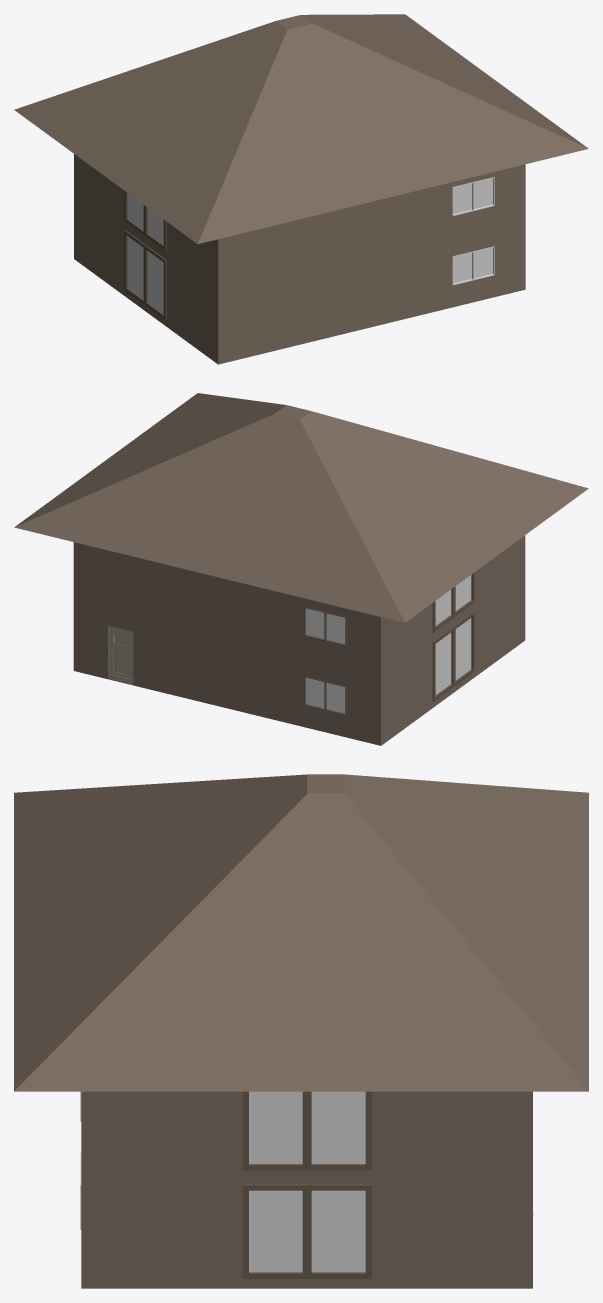
Rendered from House_26.fbx.
3 views of the same model, one above another, from view 1: azimuth 30°, elevation 25°; view 2: azimuth 150°, elevation 25°; view 3: azimuth 270°, elevation 25° (orthographic). The views are drawn at different scales.
Parts seen in each view (by area): view 1: House_26_Body; view 2: House_26_Body; view 3: House_26_Body.
Boxes of the visible parts, x1,y1,x2,y2 form: House_26_Body: (14,14,588,364); House_26_Body: (14,393,588,745); House_26_Body: (14,774,588,1288).
Bounding box in the file's own units: 1565 × 946 × 1273.
